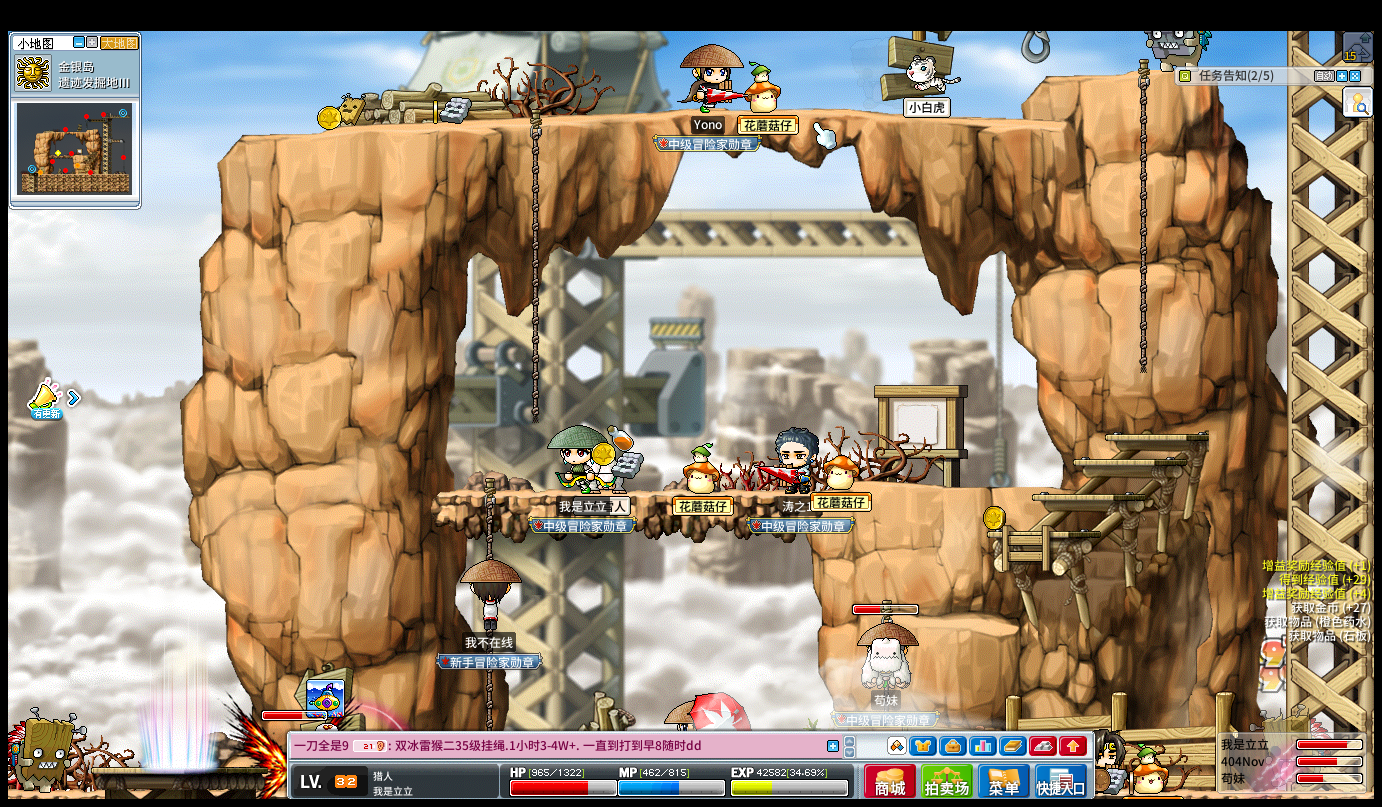floor: (226, 104, 1067, 142), (431, 489, 813, 499), (910, 614, 1019, 635), (1043, 69, 1163, 81), (905, 482, 1065, 491), (1103, 429, 1209, 441), (983, 529, 1100, 538), (1067, 456, 1184, 465), (1031, 492, 1145, 500)
monster: (5, 708, 86, 791)
rope: (1135, 52, 1150, 382), (530, 108, 541, 422), (480, 479, 494, 559), (482, 669, 492, 730)
